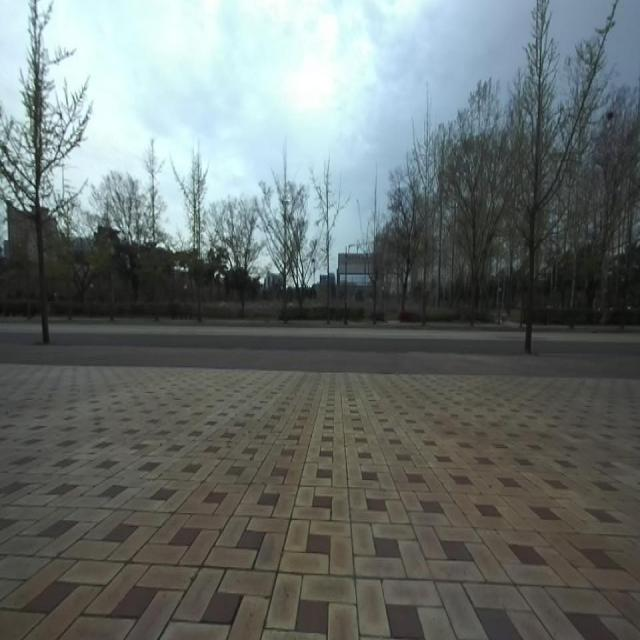sidewalk: (0, 342, 640, 378)
